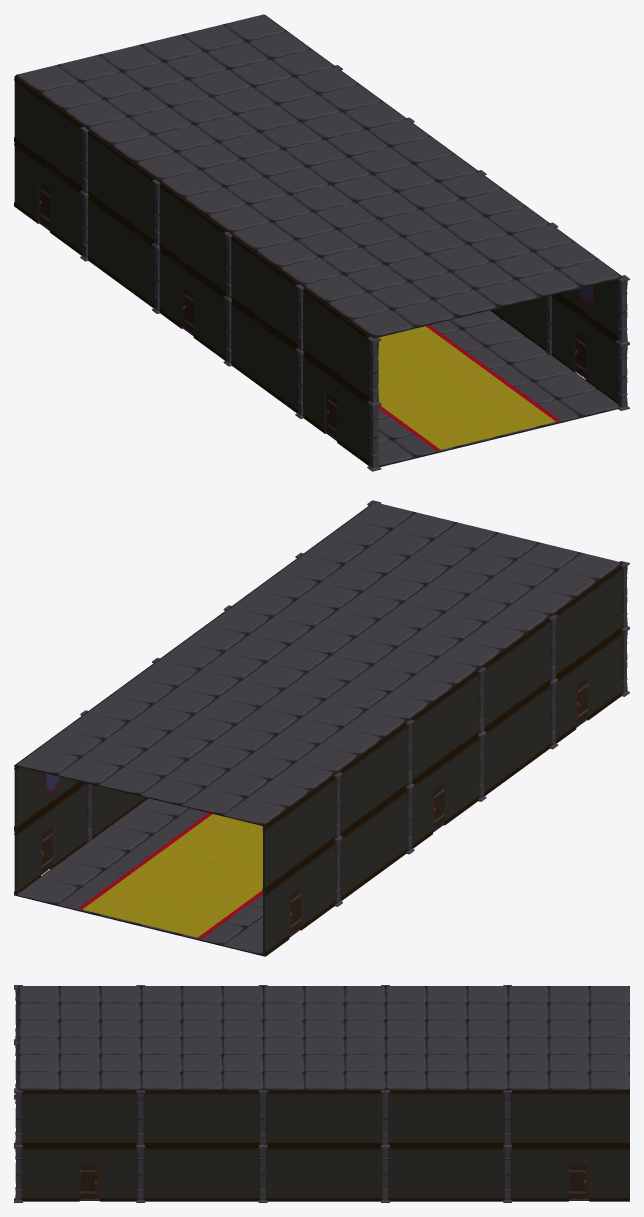
File: CastleModule1.fbx
3 views of the same model, one above another, from view 1: azimuth 30°, elevation 25°; view 2: azimuth 150°, elevation 25°; view 3: azimuth 270°, elevation 25° (orthographic). The views are drawn at different scales.
Visible parts, largest first — view 1: CarpetHall.096, CarpetHall.098, CarpetHall.094, CarpetHall.100, CarpetHall.102, CarpetHall.093, CarpetHall.095, CarpetHall.097, WallDoorHall.003, WallDoorHall.018, FloorTileHall.660, WallDoorHall.017 (+151 smaller); view 2: CarpetHall.113, CarpetHall.118, CarpetHall.115, CarpetHall.120, CarpetHall.117, CarpetHall.119, CarpetHall.121, CarpetHall.116, WallDoorHall.017, WallDoorHall.003, WallDoorHall.018, WallDoorHall.019 (+153 smaller); view 3: WallDoorHall.019, WallDoorHall.013, HalfWallHall.447, HalfWallHall.450, HalfWallHall.456, HalfWallHall.462, HalfWallHall.464, HalfWallHall.466, HalfWallHall.472, HalfWallHall.474, HalfWallHall.443, HalfWallHall.444 (+148 smaller).
Part boxes in pixels (x1,y1,x2,y2): CarpetHall.096: (451, 385, 536, 418); CarpetHall.098: (427, 368, 512, 400); CarpetHall.094: (475, 403, 560, 435); CarpetHall.100: (403, 351, 488, 383); CarpetHall.102: (379, 333, 464, 365); CarpetHall.093: (413, 418, 498, 450); CarpetHall.095: (389, 401, 474, 433); CarpetHall.097: (378, 383, 450, 415); WallDoorHall.003: (325, 369, 349, 451); WallDoorHall.018: (38, 159, 62, 240); FloorTileHall.660: (350, 310, 415, 338); WallDoorHall.017: (181, 264, 205, 345); CarpetHall.113: (173, 821, 258, 853); CarpetHall.118: (164, 888, 249, 921); CarpetHall.115: (150, 838, 234, 870); CarpetHall.120: (140, 906, 225, 938); CarpetHall.117: (126, 856, 211, 888); CarpetHall.119: (102, 873, 186, 905); CarpetHall.121: (78, 891, 163, 923); CarpetHall.116: (188, 871, 262, 903); WallDoorHall.017: (432, 752, 456, 825); WallDoorHall.003: (576, 647, 600, 720); WallDoorHall.018: (289, 857, 313, 930); WallDoorHall.019: (40, 796, 64, 869); WallDoorHall.019: (548, 1146, 589, 1201); WallDoorHall.013: (59, 1146, 99, 1201); HalfWallHall.447: (161, 1090, 181, 1146); HalfWallHall.450: (222, 1090, 242, 1146); HalfWallHall.456: (426, 1090, 446, 1146); HalfWallHall.462: (548, 1090, 568, 1146); HalfWallHall.464: (589, 1090, 609, 1146); HalfWallHall.466: (59, 1090, 79, 1146); HalfWallHall.472: (283, 1090, 303, 1146); HalfWallHall.474: (324, 1090, 344, 1146); HalfWallHall.443: (39, 1090, 59, 1146); HalfWallHall.444: (100, 1090, 120, 1146).
Bounding box in the file's own units: 1244 × 610 × 3022.
